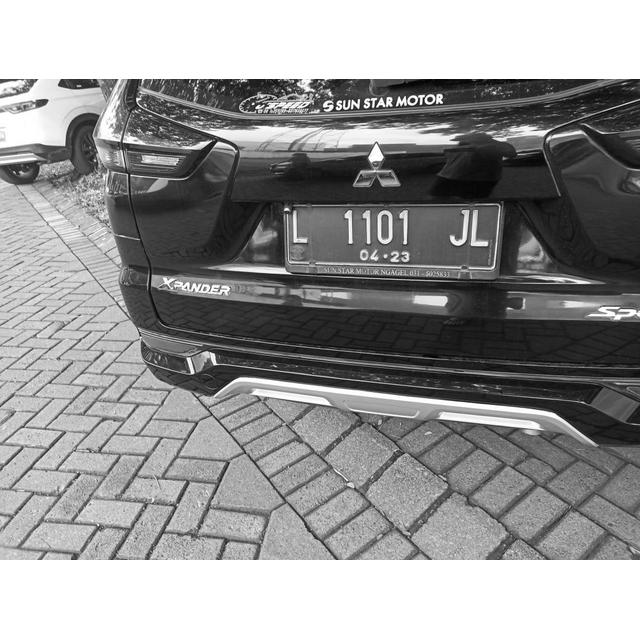license: (290, 206, 492, 264)
